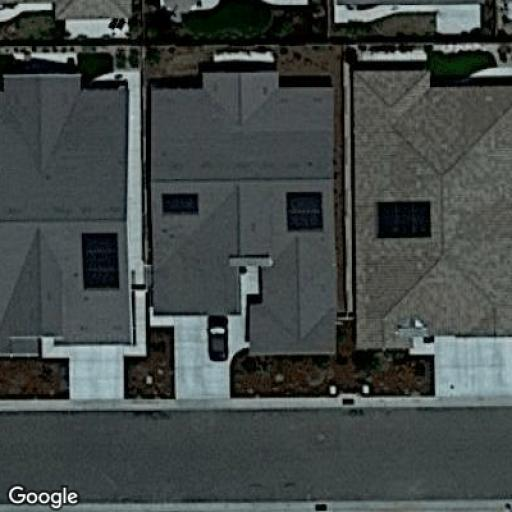solar-panel: (78, 228, 122, 293), (374, 199, 434, 241), (285, 190, 326, 234), (160, 190, 201, 218)
